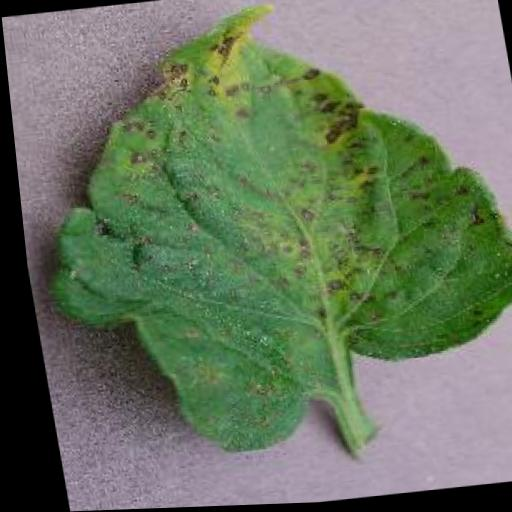Septoria: (4, 0, 512, 473)
